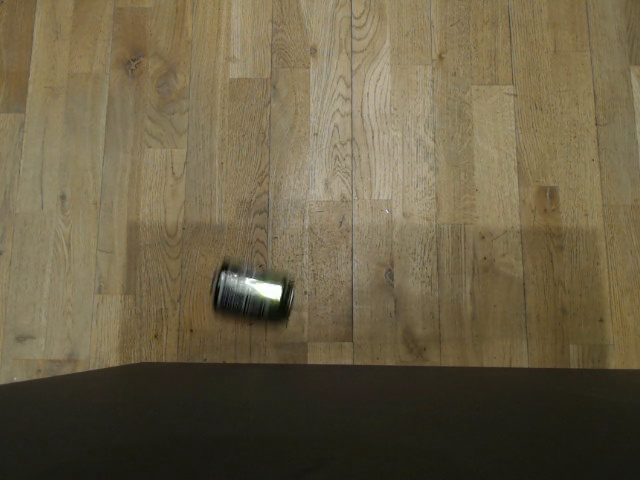beer: (207, 258, 298, 334)
